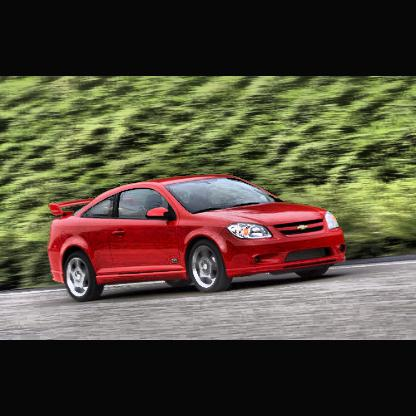Chevrolet Cobalt SS 2010: (47, 173, 349, 305)
